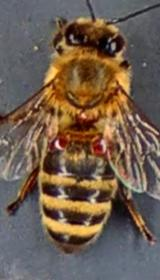varroa_mite: (42, 124, 74, 156), (86, 124, 114, 160)
